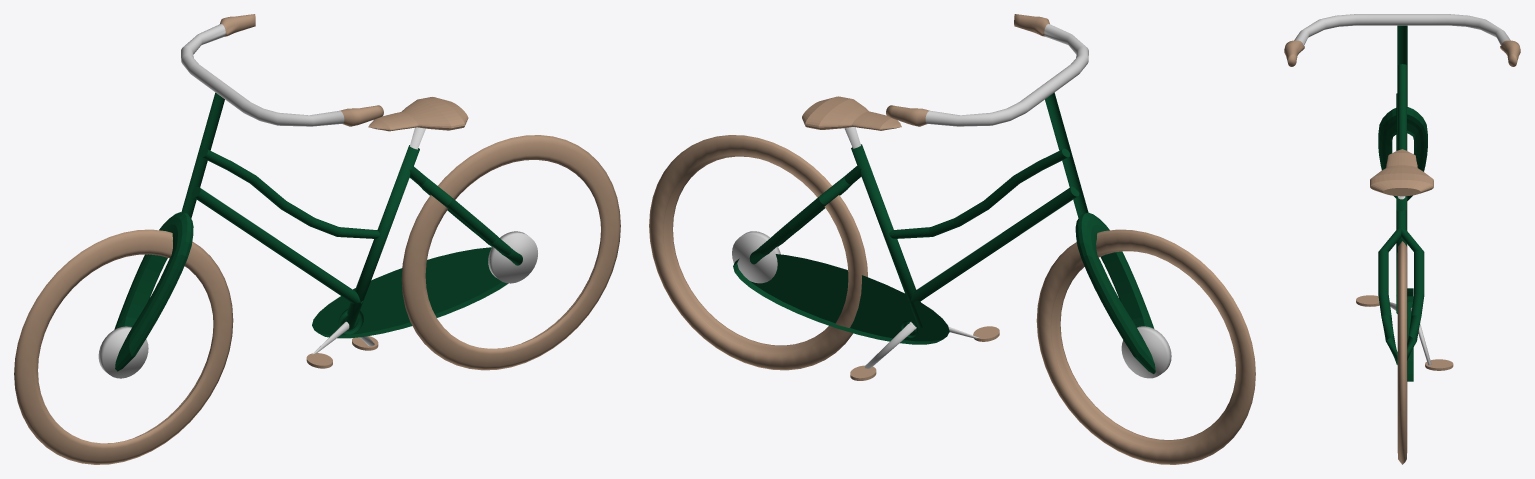
The model's file is fietsdonkergroen.fbx.
The picture shows the model from 3 angles, left to right: view 1: azimuth 30°, elevation 25°; view 2: azimuth 150°, elevation 25°; view 3: azimuth 270°, elevation 25°; orthographic projection. The views are drawn at different scales.
Parts seen in each view (by area): view 1: Torus.001, Torus.002, Cylinder.005, Torus.004, Cylinder.004, Cylinder, Cylinder.003, Cone, Cylinder.001, Cylinder.006, Cylinder.007, Cylinder.009 (+1 smaller); view 2: Torus.002, Torus.001, Cylinder.005, Torus.004, Cylinder.004, Cylinder.003, Cylinder, Cone, Cylinder.001, Cylinder.006, Cylinder.007, Cylinder.009 (+1 smaller); view 3: Cylinder.004, Cylinder.006, Torus.001, Cone, Torus.004, Cylinder.001, Cylinder.002, Cylinder.005, Cylinder, Cylinder.011, Cylinder.010.
Boxes of the visible parts, <box> form: Torus.001: <box>401,135,620,370</box>; Torus.002: <box>14,229,233,464</box>; Cylinder.005: <box>312,247,508,338</box>; Torus.004: <box>114,212,193,371</box>; Cylinder.004: <box>181,14,383,126</box>; Cylinder: <box>344,127,425,329</box>; Cylinder.003: <box>191,187,362,303</box>; Cone: <box>368,97,468,131</box>; Cylinder.001: <box>200,148,379,238</box>; Cylinder.006: <box>409,166,522,265</box>; Cylinder.007: <box>488,231,537,283</box>; Cylinder.009: <box>98,326,148,378</box>; Torus.002: <box>1036,229,1255,464</box>; Torus.001: <box>649,135,867,370</box>; Cylinder.005: <box>733,254,949,344</box>; Torus.004: <box>1075,212,1155,373</box>; Cylinder.004: <box>886,14,1088,126</box>; Cylinder.003: <box>908,186,1079,302</box>; Cylinder: <box>844,127,922,328</box>; Cone: <box>802,96,901,130</box>; Cylinder.001: <box>889,148,1069,238</box>; Cylinder.006: <box>749,166,861,264</box>; Cylinder.007: <box>732,231,780,283</box>; Cylinder.009: <box>1121,326,1171,378</box>; Cylinder.004: <box>1284,14,1520,66</box>; Cylinder.006: <box>1378,210,1424,364</box>; Torus.001: <box>1397,241,1407,464</box>; Cone: <box>1370,149,1433,196</box>; Torus.004: <box>1378,107,1427,200</box>; Cylinder.001: <box>1398,64,1406,246</box>; Cylinder.002: <box>1397,25,1407,107</box>; Cylinder.005: <box>1407,288,1413,381</box>; Cylinder: <box>1396,196,1406,313</box>; Cylinder.011: <box>1425,359,1453,370</box>; Cylinder.010: <box>1356,295,1379,306</box>.
Bounding box in the file's own units: 285 × 160 × 109.
